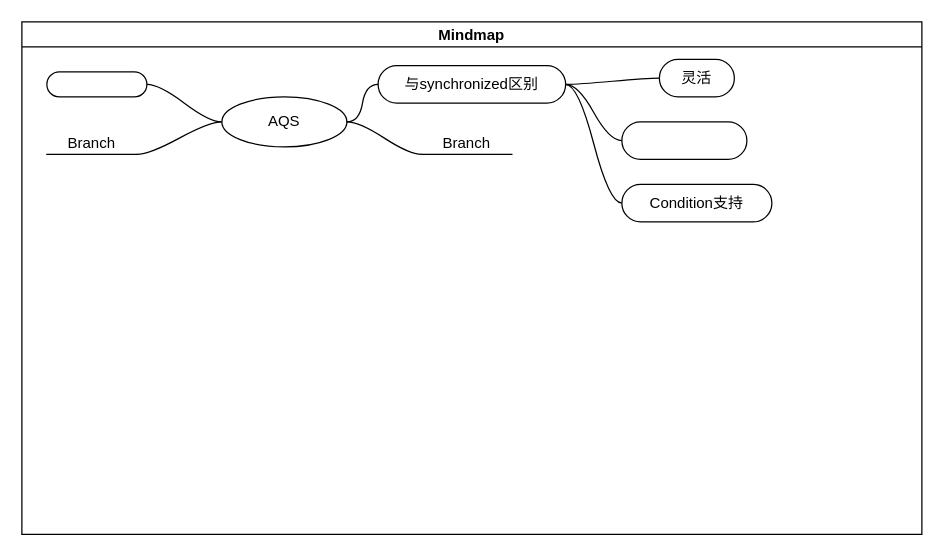
Image size: 944x556. Some labels were removed from this diagram. Here are the shapes that lost their labels. From the top down, the centre of each, then its label:
the point at 96,84: Topic
the point at 684,140: 更多的特性
